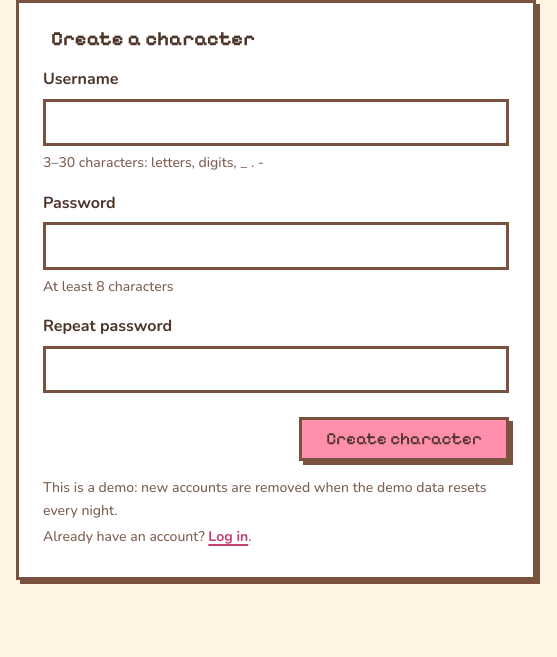
Test: RegisterPage › validates the form before sending it
Type "ab" into the field labelled "Username" at (276, 122), box [43, 99, 509, 146]
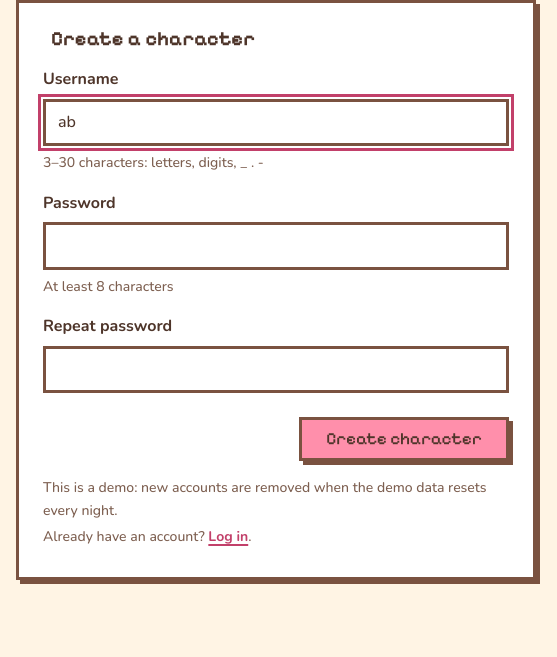
Type "Demo123!" into the password field labelled "Password" at (276, 246), box [43, 222, 509, 270]
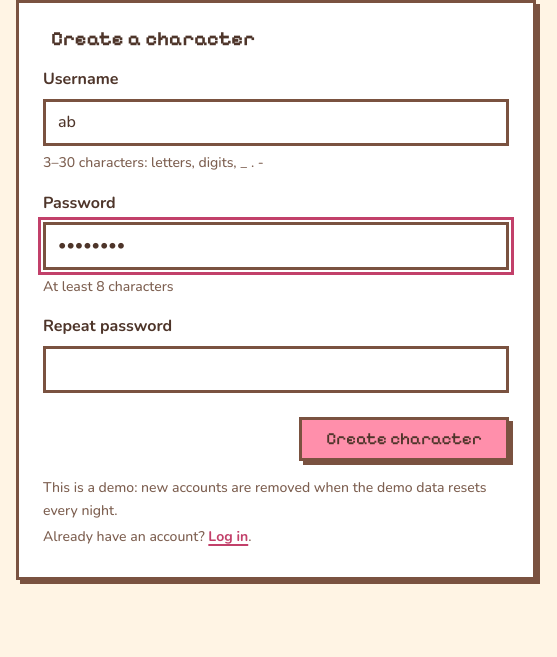
Type "Other123!" into the password field labelled "Repeat password" at (276, 370), box [43, 346, 509, 393]
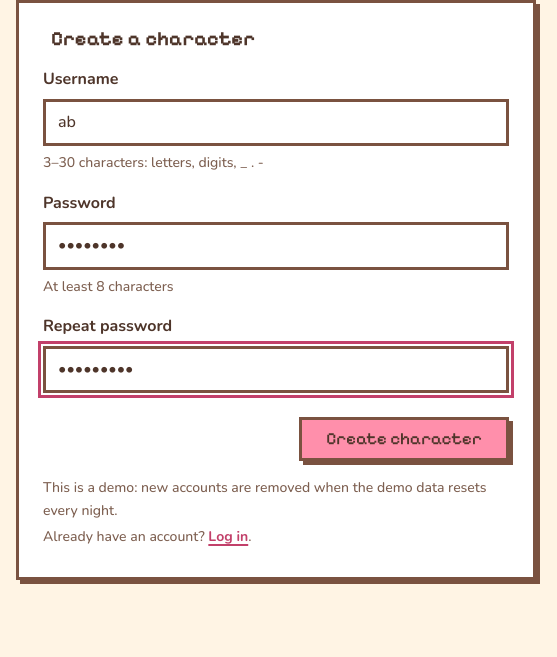
Click the button "Create character" at (404, 439), box [299, 417, 509, 461]
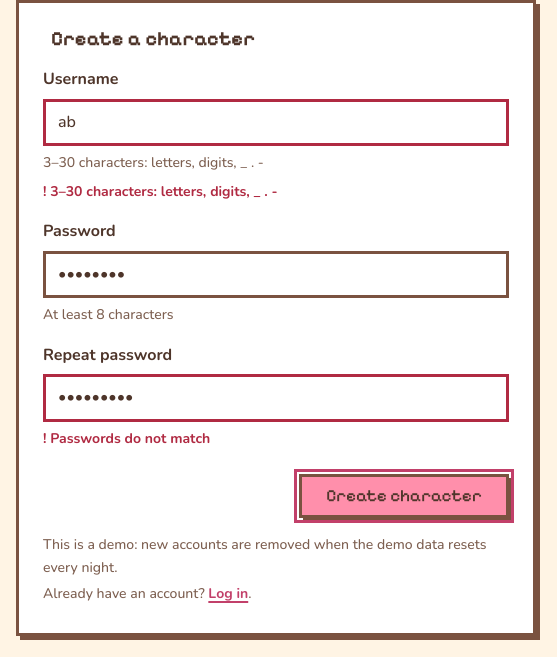
expect the text "Passwords do not match" is shown: met, box [50, 429, 210, 448]
